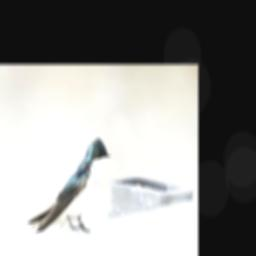Swallow: (27, 135, 112, 237)
